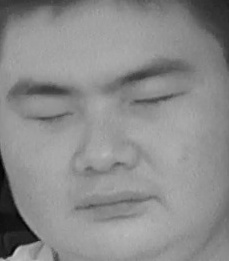blink: (127, 83, 185, 119), (29, 100, 76, 134)
mouth: (69, 184, 154, 228)
